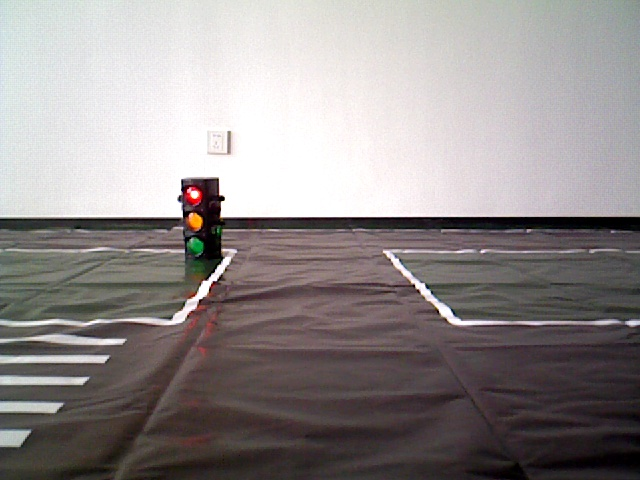red: (181, 182, 217, 259)
